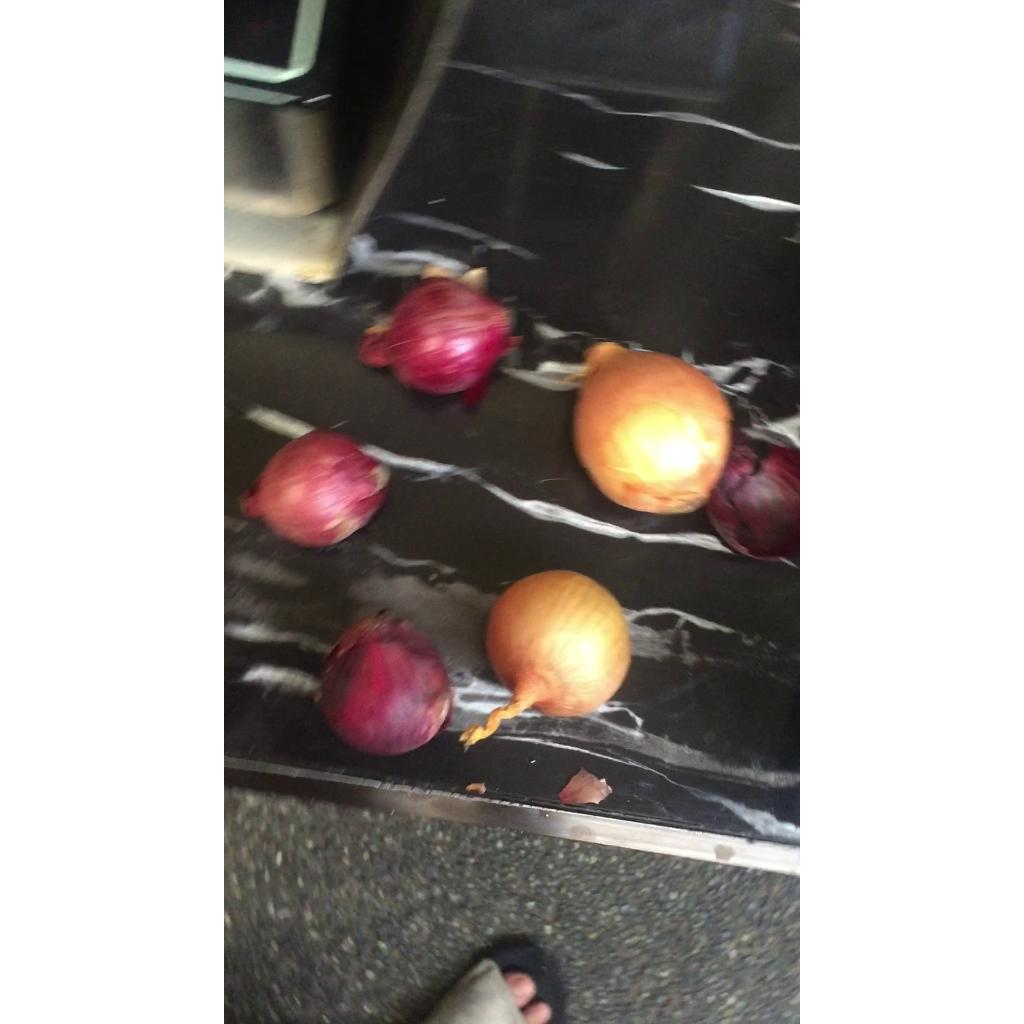Onion: (460, 570, 632, 747), (572, 342, 733, 514), (316, 610, 453, 758), (358, 278, 519, 395), (238, 429, 390, 550)
